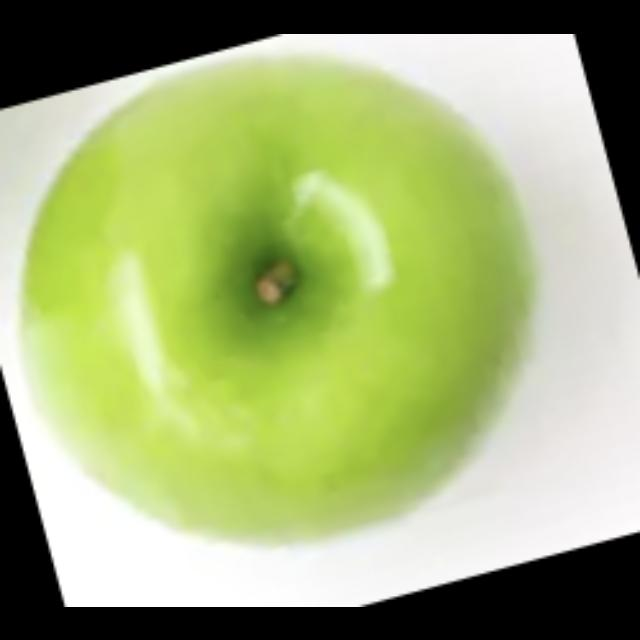Apel Segar: (5, 33, 552, 555)
